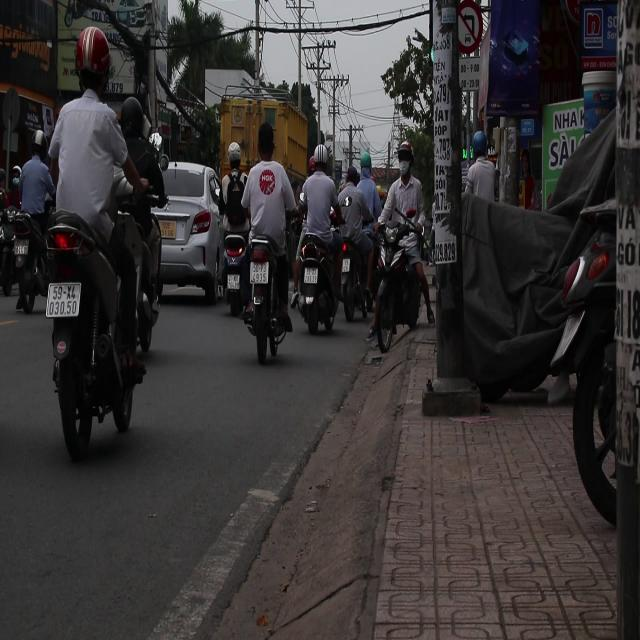car: (153, 161, 229, 306)
motorbike: (34, 204, 145, 455), (341, 210, 421, 340), (237, 218, 296, 364), (292, 215, 342, 338), (1, 210, 51, 311), (338, 214, 378, 324)
